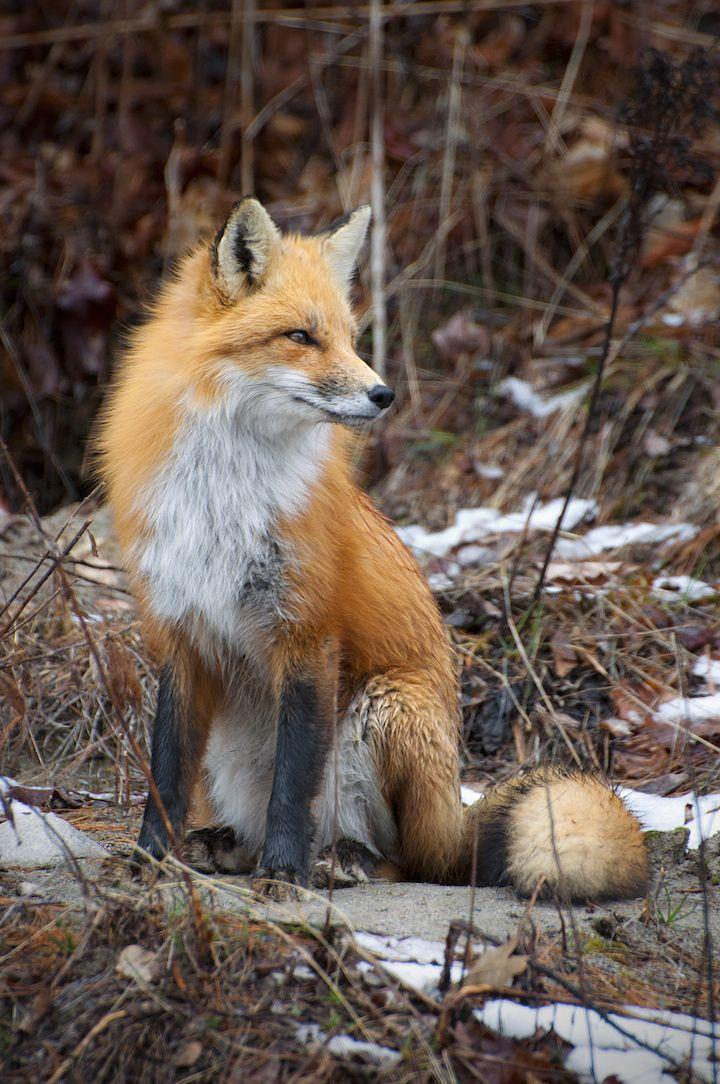fox: (78, 192, 653, 912)
